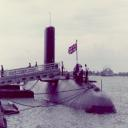submarine: (23, 27, 120, 115)
